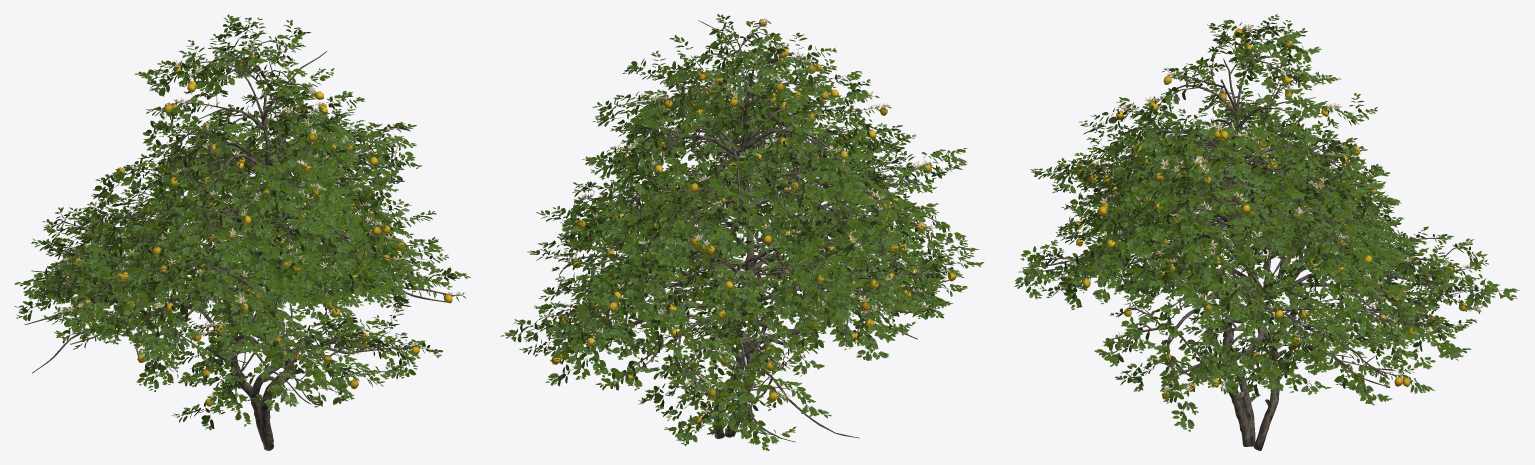
File: lemon_tree.glb
The picture shows the model from 3 angles, left to right: view 1: azimuth 30°, elevation 25°; view 2: azimuth 150°, elevation 25°; view 3: azimuth 270°, elevation 25°; orthographic projection. The views are drawn at different scales.
Parts seen in each view (by area): view 1: LeavesSG, BranchesSG; view 2: LeavesSG, BranchesSG; view 3: LeavesSG, BranchesSG.
Boxes of the visible parts, <box> form: LeavesSG: <box>14,14,470,430</box>; BranchesSG: <box>21,20,462,450</box>; LeavesSG: <box>500,14,983,450</box>; BranchesSG: <box>519,18,963,442</box>; LeavesSG: <box>1014,14,1519,431</box>; BranchesSG: <box>1018,18,1511,450</box>.
Size of the model in its own units: 14.09 by 13.72 by 15.45.
Materials: 4 (4 with a texture image).
